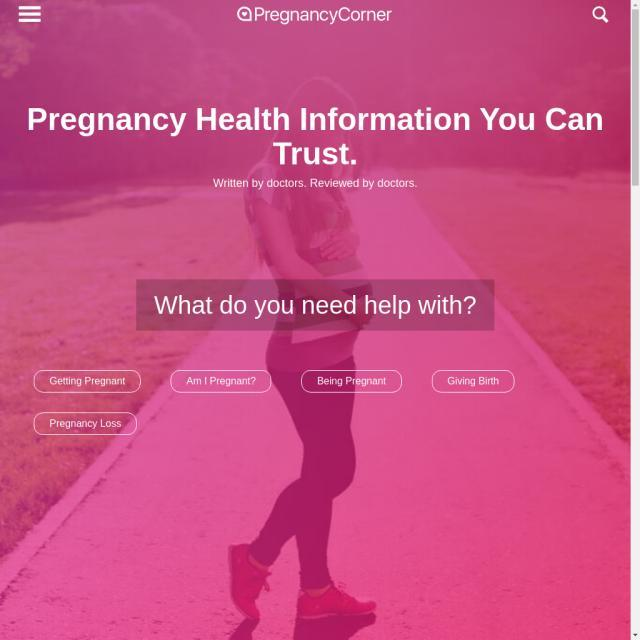button: (32, 368, 142, 399), (170, 366, 272, 399), (300, 368, 404, 398), (32, 410, 140, 437), (430, 368, 516, 394)
text: (22, 99, 616, 171), (143, 285, 489, 329)
